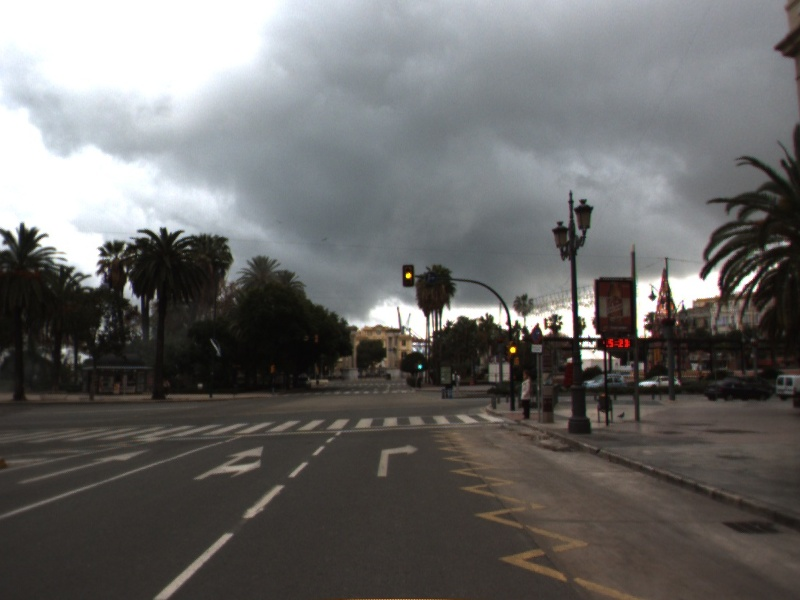RIGHT: (375, 441, 422, 479)
STRAIGHT: (14, 447, 152, 486)
STRAIGHT_RIGHT: (191, 443, 266, 482)
